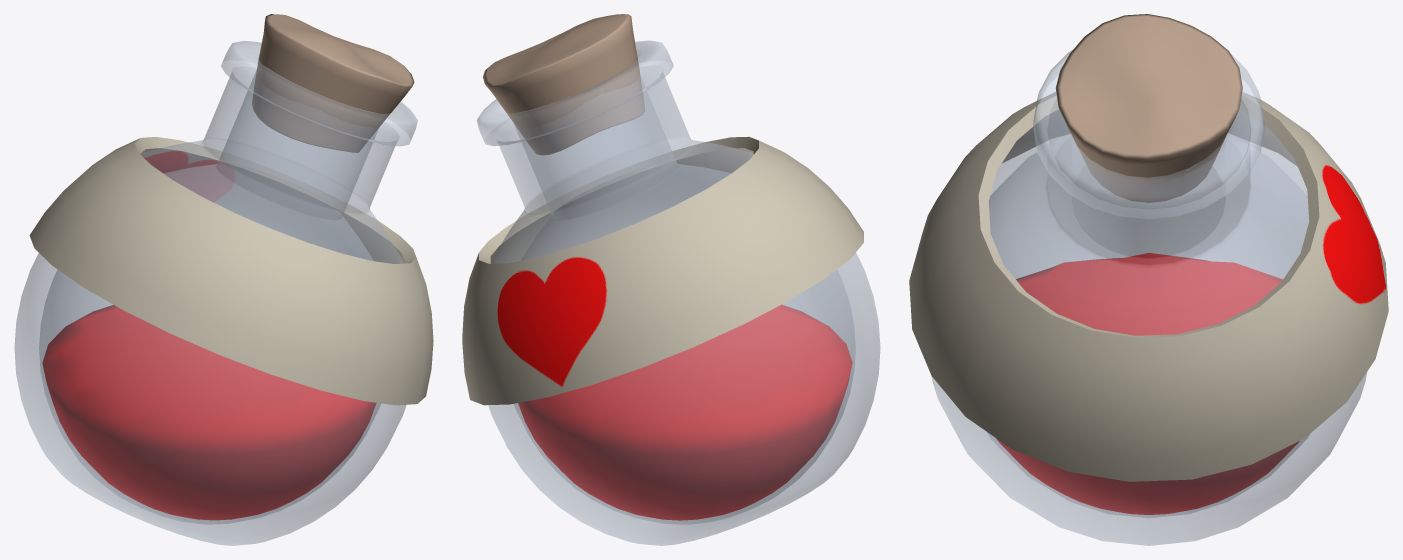
Rendered from HealthPot1.fbx.
3 renders of one model, left to right at view 1: azimuth 30°, elevation 25°; view 2: azimuth 150°, elevation 25°; view 3: azimuth 270°, elevation 25°, orthographic. The views are drawn at different scales.
Parts seen in each view (by area): view 1: HealthPot; view 2: HealthPot; view 3: HealthPot.
Part boxes in pixels (x1,y1,x2,y2): HealthPot: [14, 14, 433, 545]; HealthPot: [462, 14, 880, 545]; HealthPot: [909, 14, 1388, 545].
Bounding box in the file's own units: 6.8 × 8.65 × 6.94.
4 materials, 1 textured.
